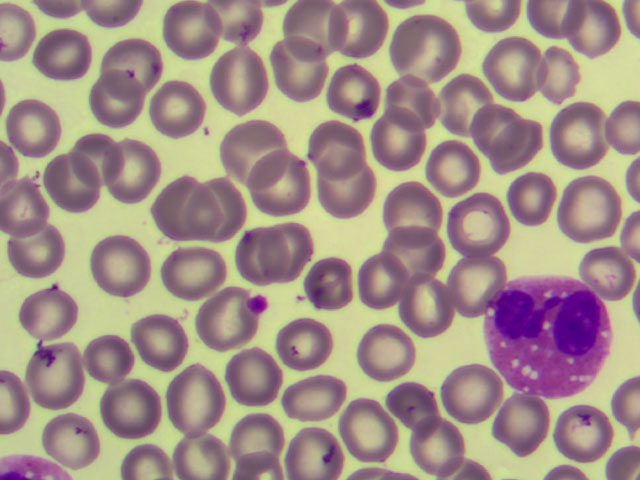Platelets: (246, 295, 271, 315)
RBC: (484, 36, 546, 99), (169, 421, 227, 480), (289, 421, 347, 480), (34, 24, 92, 82), (79, 78, 137, 136), (107, 36, 165, 94), (5, 101, 63, 159), (38, 152, 96, 210), (1, 176, 59, 234), (9, 224, 67, 282), (23, 278, 81, 336), (26, 345, 84, 403), (39, 409, 97, 467), (76, 333, 134, 391), (101, 376, 159, 434), (164, 365, 222, 423), (133, 315, 191, 373), (86, 236, 144, 294), (164, 244, 222, 302), (148, 182, 206, 240), (191, 182, 249, 240), (111, 145, 169, 203), (81, 130, 139, 188), (143, 83, 201, 141), (205, 50, 263, 108), (164, 1, 222, 59), (269, 44, 327, 102), (337, 3, 395, 61), (394, 18, 452, 76), (384, 68, 442, 126), (371, 109, 429, 167), (309, 111, 367, 169), (321, 61, 379, 119), (318, 166, 376, 224), (256, 162, 314, 220), (226, 117, 284, 175), (218, 221, 276, 279), (263, 221, 321, 279), (303, 253, 361, 311), (353, 258, 411, 316), (380, 228, 438, 286), (381, 186, 439, 244), (420, 142, 478, 200), (496, 121, 554, 179), (473, 102, 531, 160), (443, 77, 501, 135), (522, 43, 580, 101), (568, 2, 626, 60), (552, 107, 610, 165), (564, 186, 622, 244), (582, 233, 640, 291), (491, 165, 549, 223), (461, 195, 519, 253), (448, 252, 506, 310), (399, 280, 457, 338), (360, 317, 418, 375), (383, 376, 441, 434), (406, 419, 464, 477), (440, 362, 498, 420), (485, 397, 543, 455), (548, 400, 606, 458), (353, 401, 411, 459), (288, 371, 346, 429), (281, 316, 339, 374), (232, 346, 290, 404), (194, 293, 252, 351), (230, 406, 288, 464), (280, 1, 338, 58)
WBC: (484, 277, 612, 394)
